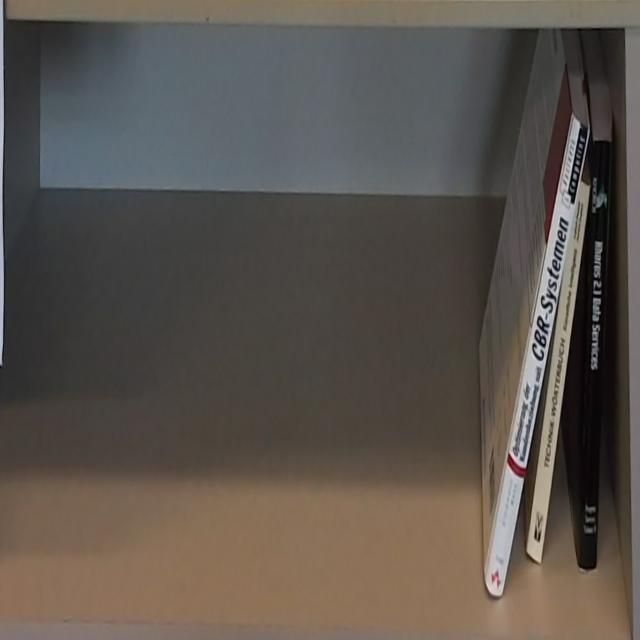Book Spine: (481, 112, 593, 602), (528, 179, 592, 568), (579, 136, 615, 573)
